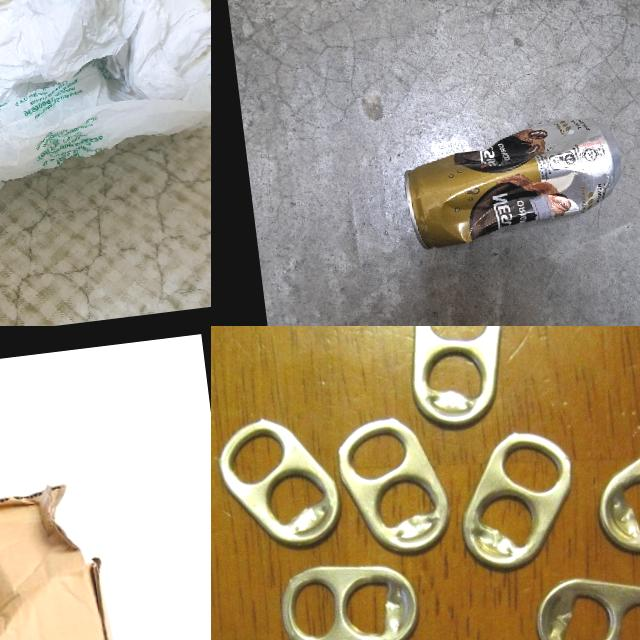aba de lata: (448, 423, 584, 574), (212, 409, 346, 558), (332, 410, 458, 562), (272, 551, 424, 640), (398, 326, 511, 432), (530, 564, 640, 640), (590, 426, 640, 559)
lata: (399, 114, 622, 251)
papelão: (0, 475, 132, 640)
sacola plástica: (0, 0, 211, 220)
